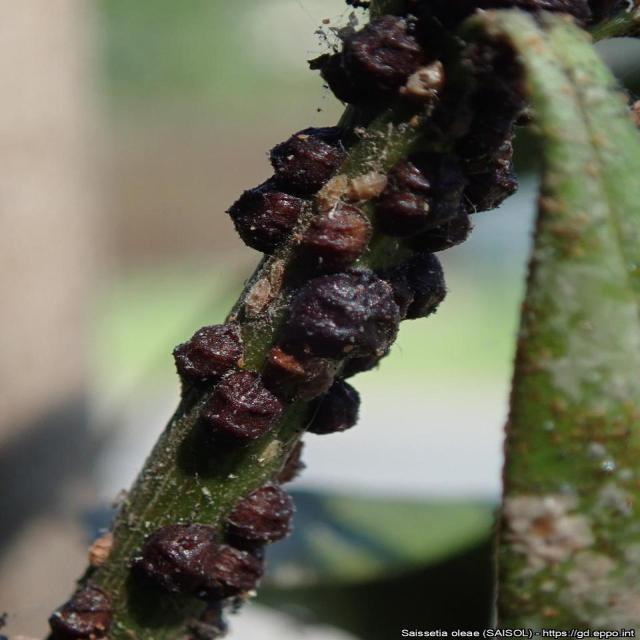BlackScale: (378, 96, 520, 320), (136, 485, 293, 599), (263, 270, 400, 399), (226, 126, 346, 255), (293, 202, 372, 278), (200, 370, 282, 441), (173, 321, 242, 388), (46, 588, 109, 640), (306, 378, 360, 434)
